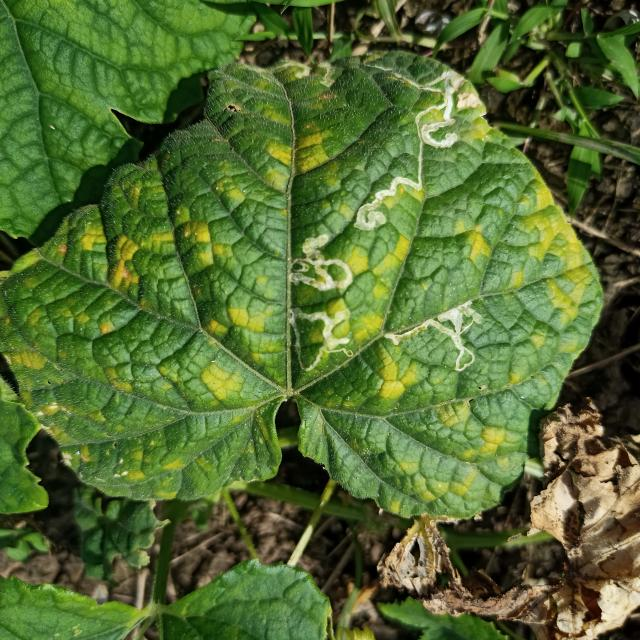disease_cucumber: (32, 56, 584, 513)
